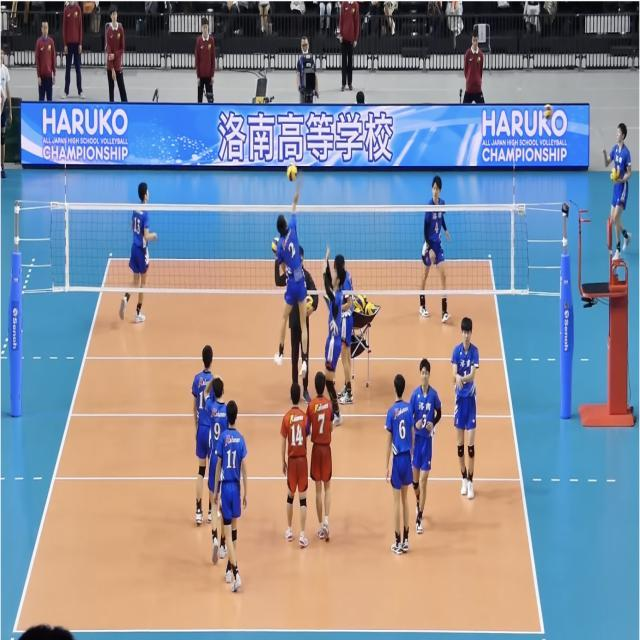spike: (272, 164, 314, 384)
